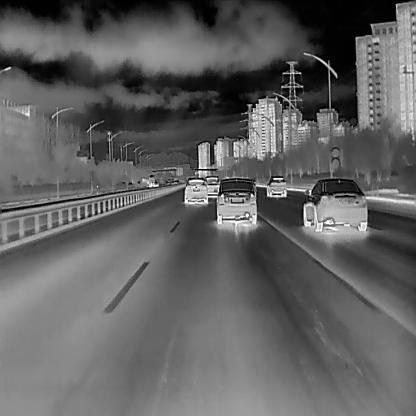car: (302, 175, 367, 230), (215, 177, 257, 225), (183, 176, 208, 203), (265, 175, 286, 198), (205, 174, 221, 197), (126, 181, 132, 185)
